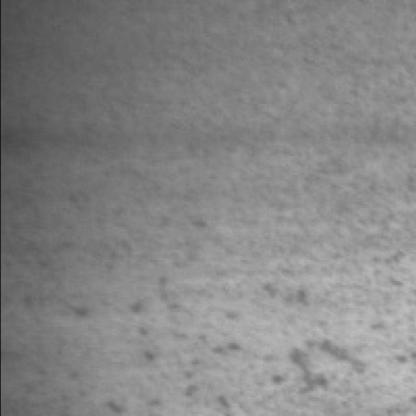pitted_surface: (12, 21, 416, 409)
